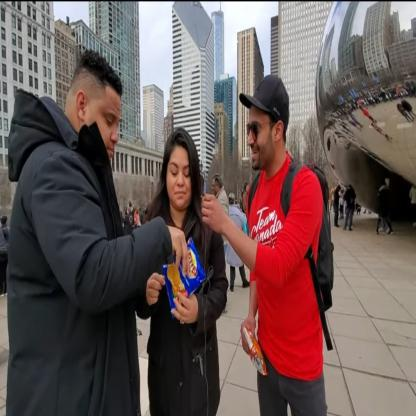indian_magic_masala: (162, 238, 206, 317)
